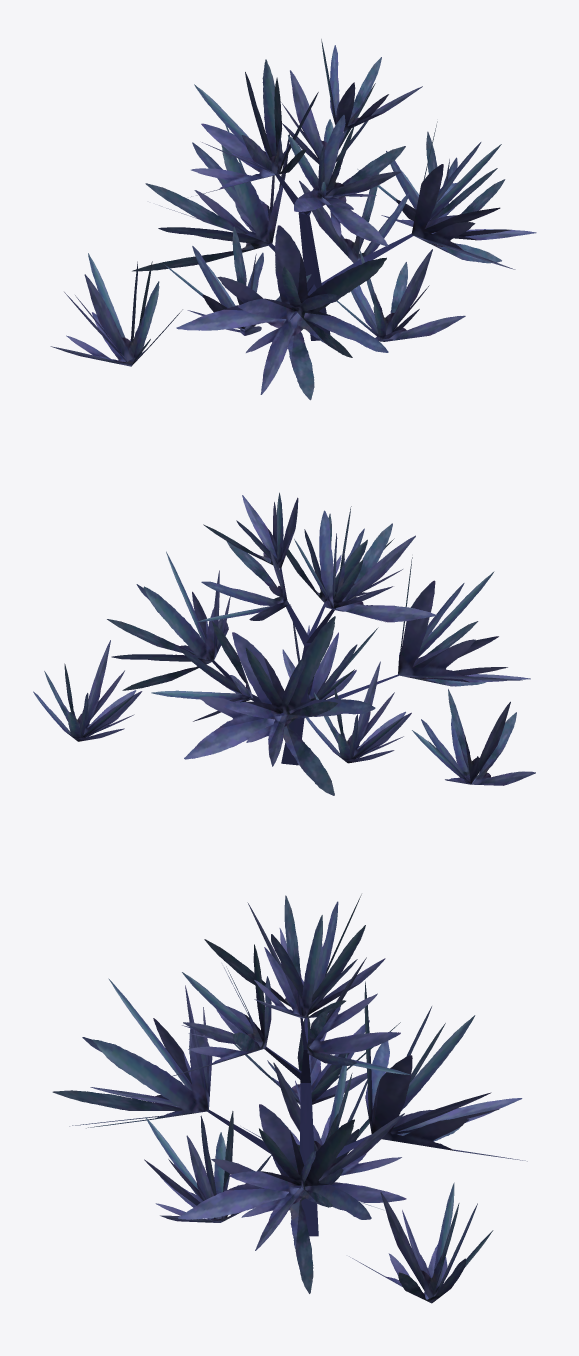
File: shrb_blueleaf_big_l0.fbx
3 views of the same model, one above another, from view 1: azimuth 30°, elevation 25°; view 2: azimuth 150°, elevation 25°; view 3: azimuth 270°, elevation 25° (orthographic). The views are drawn at different scales.
Parts seen in each view (by area): view 1: mesh_node; view 2: mesh_node; view 3: mesh_node.
Part boxes in pixels (bbox=[...]): mesh_node: bbox=[50, 39, 536, 400]; mesh_node: bbox=[33, 492, 535, 795]; mesh_node: bbox=[52, 894, 527, 1303].
Size of the model in its own units: 4.29 by 2.37 by 3.51.
2 materials, 2 textured.
